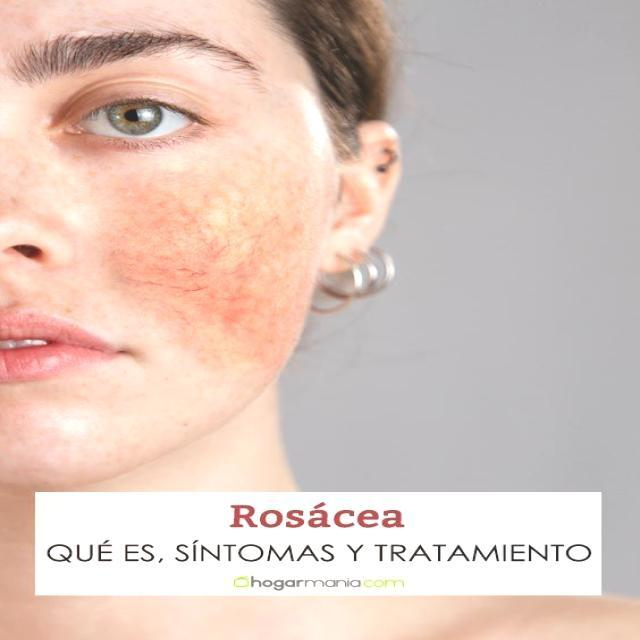Rosacea: (97, 150, 306, 368)
